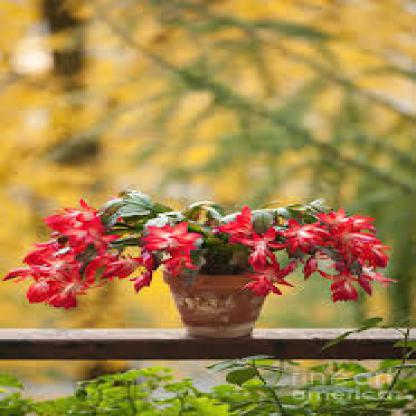Aglonema: (83, 84, 401, 194)
